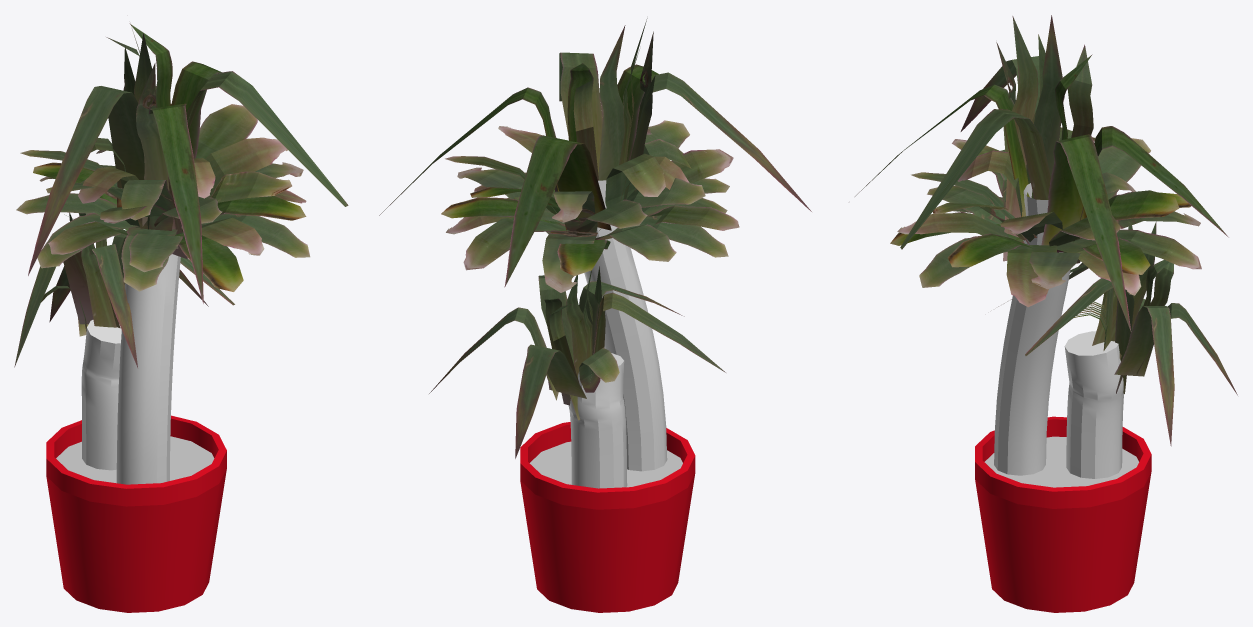
The model's file is Yucca.fbx.
3 views of the same model, side by side, from view 1: azimuth 30°, elevation 25°; view 2: azimuth 150°, elevation 25°; view 3: azimuth 270°, elevation 25° (orthographic). The views are drawn at different scales.
Parts seen in each view (by area): view 1: BezierCurve, Plane.001, BezierCurve.002, Plane.009, BezierCurve.001, Plane.010, Plane.011, Plane.021, Plane.016, Plane.022, Plane.006, Plane.005 (+6 smaller); view 2: BezierCurve, Plane.001, BezierCurve.002, BezierCurve.001, Plane, Plane.008, Plane.012, Plane.009, Plane.003, Plane.011, Plane.021, Plane.005 (+12 smaller); view 3: BezierCurve, Plane.001, BezierCurve.002, BezierCurve.001, Plane.005, Plane.011, Plane.019, Plane.012, Plane.015, Plane, Plane.023, Plane.010 (+7 smaller).
Part boxes in pixels (x1,y1,x2,y2): BezierCurve: [46, 415, 226, 612]; Plane.001: [16, 104, 310, 291]; BezierCurve.002: [116, 226, 181, 484]; Plane.009: [28, 86, 144, 275]; BezierCurve.001: [81, 320, 121, 470]; Plane.010: [149, 103, 203, 303]; Plane.011: [186, 71, 348, 206]; Plane.021: [14, 251, 93, 367]; Plane.016: [136, 63, 178, 248]; Plane.022: [89, 244, 137, 367]; Plane.006: [121, 180, 173, 230]; Plane.005: [171, 61, 221, 158]; BezierCurve: [520, 422, 695, 612]; Plane.001: [441, 117, 739, 292]; BezierCurve.002: [584, 180, 667, 471]; BezierCurve.001: [568, 353, 627, 488]; Plane: [504, 135, 611, 287]; Plane.008: [515, 344, 586, 458]; Plane.012: [598, 25, 625, 180]; Plane.009: [620, 72, 811, 211]; Plane.003: [605, 153, 665, 207]; Plane.011: [559, 52, 602, 175]; Plane.021: [590, 292, 725, 382]; Plane.005: [379, 87, 566, 230]; BezierCurve: [975, 416, 1151, 612]; Plane.001: [890, 138, 1201, 307]; BezierCurve.002: [994, 183, 1070, 475]; BezierCurve.001: [1064, 331, 1123, 478]; Plane.005: [1041, 134, 1131, 331]; Plane.011: [900, 109, 1050, 249]; Plane.019: [1114, 306, 1174, 446]; Plane.012: [1026, 15, 1064, 198]; Plane.015: [1003, 16, 1038, 261]; Plane: [1080, 126, 1228, 237]; Plane.023: [1025, 278, 1134, 393]; Plane.010: [855, 84, 1029, 216].
Size of the model in its own units: 572 by 863 by 548.
